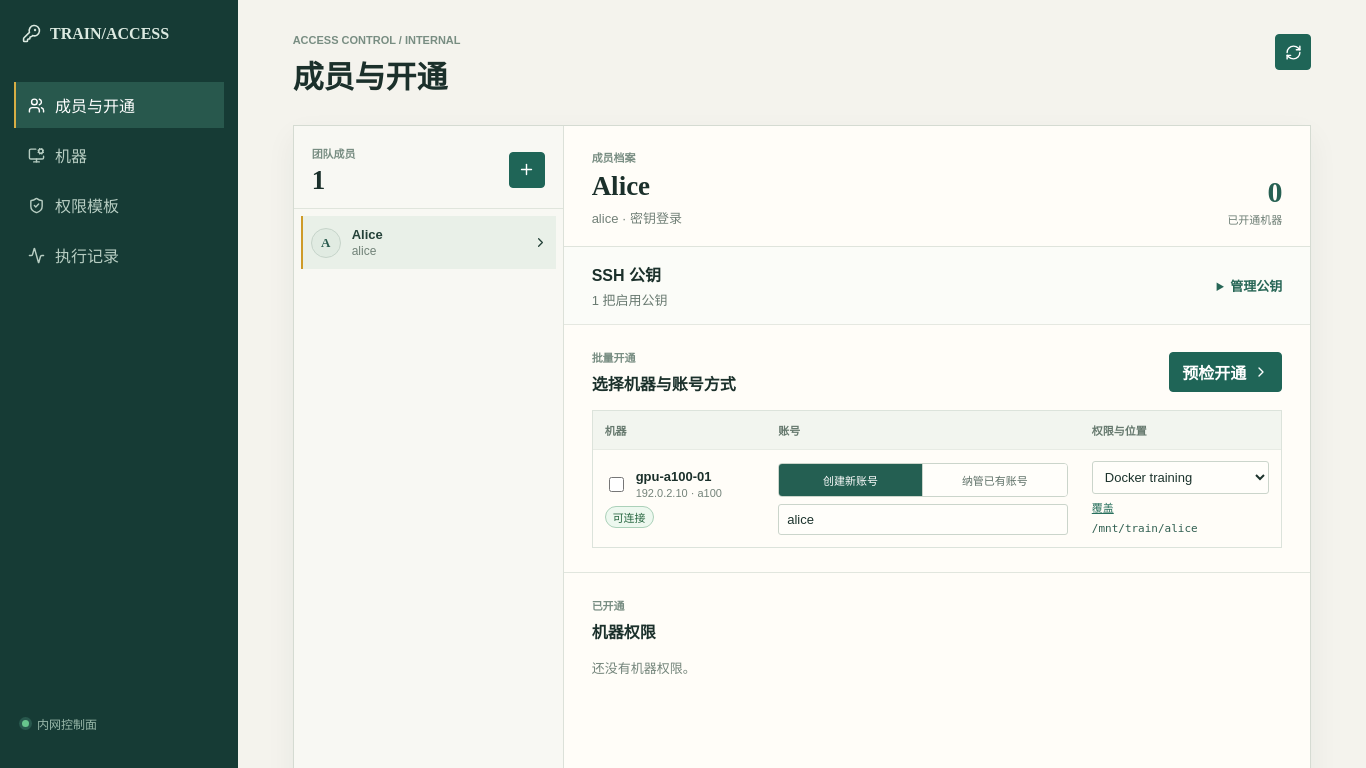
Scenario: member provisioning workbench › reveals confirmation when the background preview becomes ready
Expected: the heading "Alice" is shown, [592,171,650,201]
Click the checkbox named "选择 gpu-a100-01". click: click(616, 484)
box: [609,477,624,492]
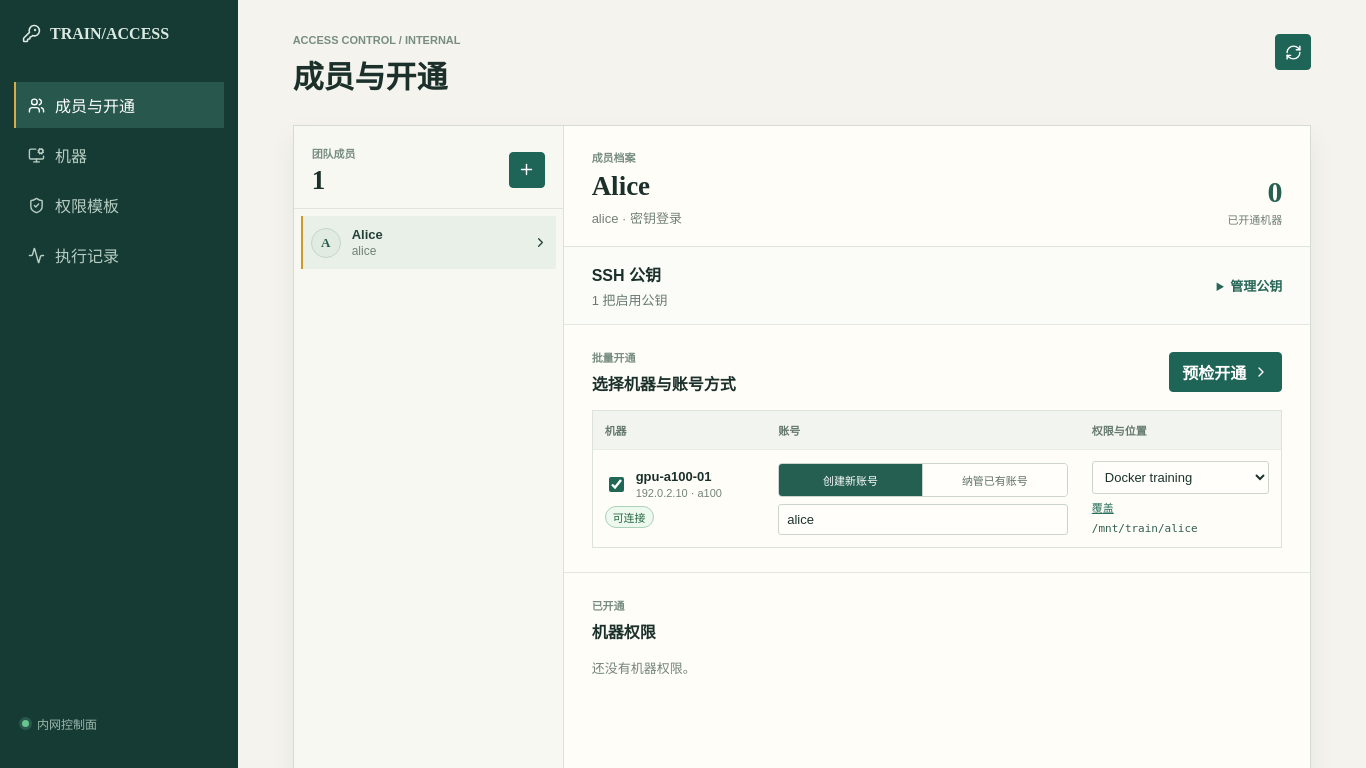
Click the button "预检开通". click: click(1226, 372)
box: [1169,352,1282,392]
(page scrolled)
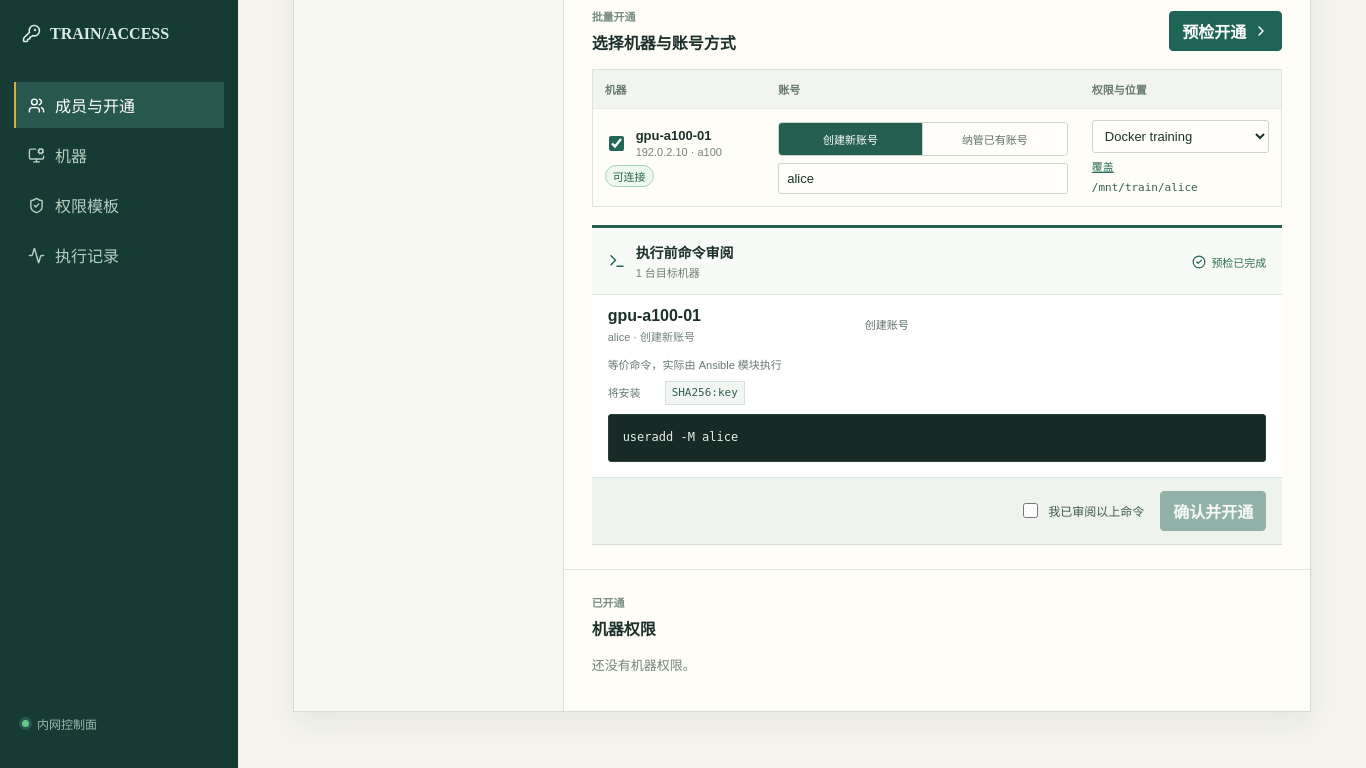
Expected: the button "确认并开通" is shown, [1160,491,1266,531]
